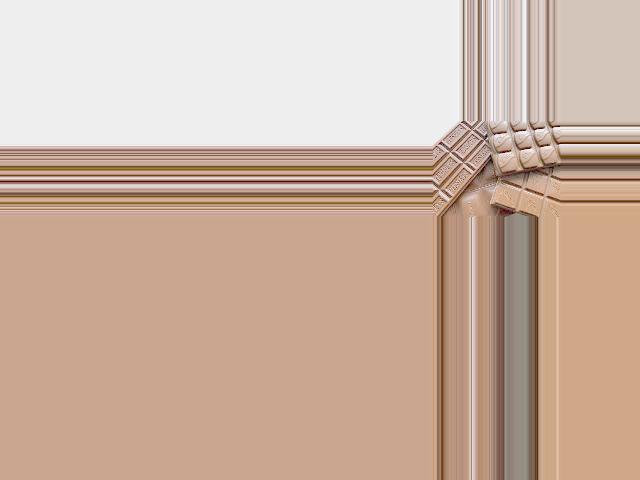chocolate: (491, 155, 561, 211)
